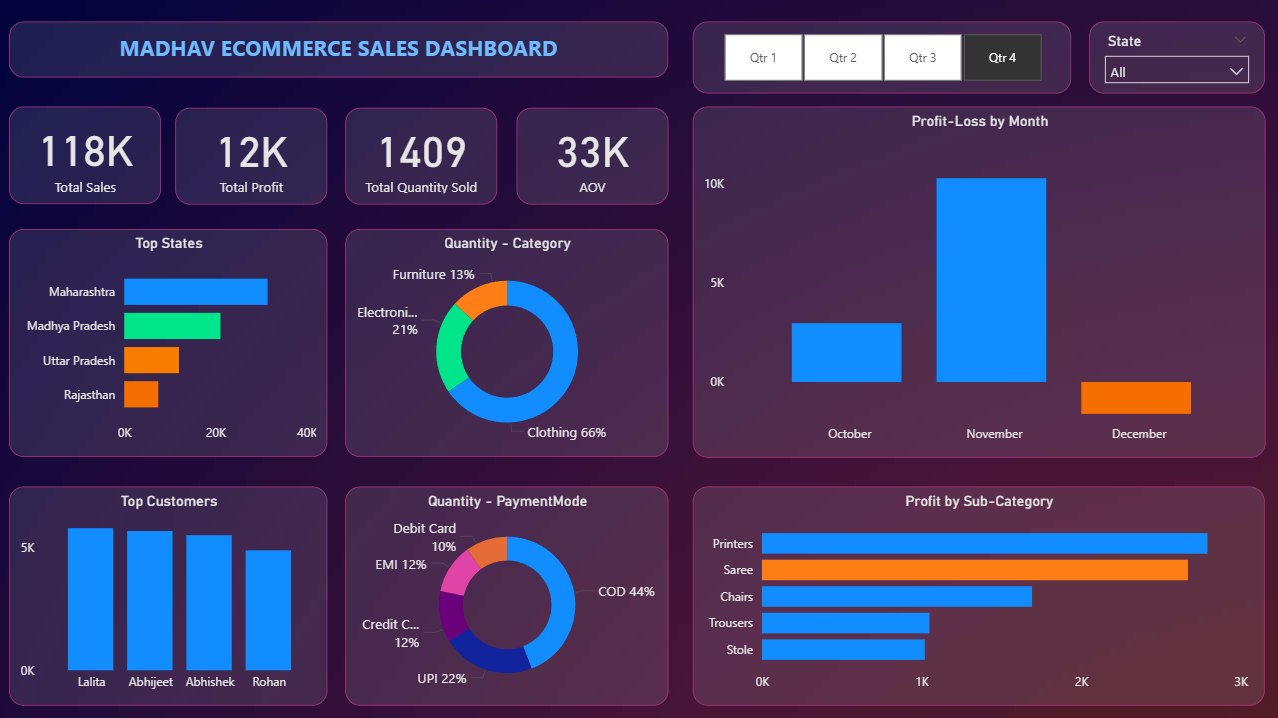

The page's visual inventory and layout, read from the dashboard file:
{"tool":"powerbi","page":{"name":"Page 1","canvas":[1280,720],"ordinal":0},"visuals":[{"type":"textbox","box":[10.1,22.8,659.5,55.7],"z":0},{"type":"columnChart","title":"Profit-Loss by Month","fields":{"Category":["Orders.Order Date.Variation.Date Hierarchy.Month"],"Y":["Sum(Details.Profit)"]},"box":[693.7,107.4,573.1,351.1],"z":1000},{"type":"barChart","title":"Profit by Sub-Category","fields":{"Category":["Details.Sub-Category"],"Y":["Sum(Details.Profit)"]},"box":[693.7,487.4,571.9,219.6],"z":2000},{"type":"donutChart","title":"Quantity - Category","fields":{"Category":["Details.Category"],"Y":["Sum(Details.Quantity)"]},"box":[346.2,230.4,323.3,228],"z":3000},{"type":"donutChart","title":"Quantity - PaymentMode","fields":{"Y":["Sum(Details.Quantity)"],"Category":["Details.PaymentMode"]},"box":[346.2,487.4,323.3,219.6],"z":4000},{"type":"card","fields":{"Values":["Sum(Details.Amount)"]},"box":[9.6,107,152.3,97.4],"z":5000},{"type":"card","fields":{"Values":["Sum(Details.Quantity)"]},"box":[346.2,108.6,152,96.5],"z":6000},{"type":"card","fields":{"Values":["Sum(Details.Profit)"]},"box":[176.1,108.6,152,96.5],"z":7000},{"type":"card","fields":{"Values":["Sum(Details.AOV)"]},"box":[517.6,108.6,152,96.5],"z":8000},{"type":"barChart","title":"Top States","fields":{"Category":["Orders.State"],"Y":["Sum(Details.Amount)"]},"box":[9.7,230.4,318.5,228],"z":9000},{"type":"columnChart","title":"Top Customers","fields":{"Category":["Orders.CustomerName"],"Y":["Sum(Details.Amount)"]},"box":[9.7,487.4,318.5,219.6],"z":10000},{"type":"slicer","fields":{"Values":["Orders.Order Date.Variation.Date Hierarchy.Quarter"]},"box":[693.7,22.8,378.5,72.2],"z":11000},{"type":"slicer","fields":{"Values":["Orders.State"]},"box":[1089.9,22.8,175.9,72.2],"z":12000}]}

Visuals, with their boxes in screenshot pixels (x1, y1, x2, y2), scaled from the page's 1280x720 canvas onto the 1278x718 screenshot:
textbox: <box>10,23,669,78</box>
"Profit-Loss by Month" columnChart: <box>693,107,1265,457</box>
"Profit by Sub-Category" barChart: <box>693,486,1264,705</box>
"Quantity - Category" donutChart: <box>346,230,668,457</box>
"Quantity - PaymentMode" donutChart: <box>346,486,668,705</box>
card - Sum(Details.Amount): <box>10,107,162,204</box>
card - Sum(Details.Quantity): <box>346,108,497,205</box>
card - Sum(Details.Profit): <box>176,108,328,205</box>
card - Sum(Details.AOV): <box>517,108,669,205</box>
"Top States" barChart: <box>10,230,328,457</box>
"Top Customers" columnChart: <box>10,486,328,705</box>
slicer - Orders.Order Date.Variation.Date Hierarchy.Quarter: <box>693,23,1071,95</box>
slicer - Orders.State: <box>1088,23,1264,95</box>
